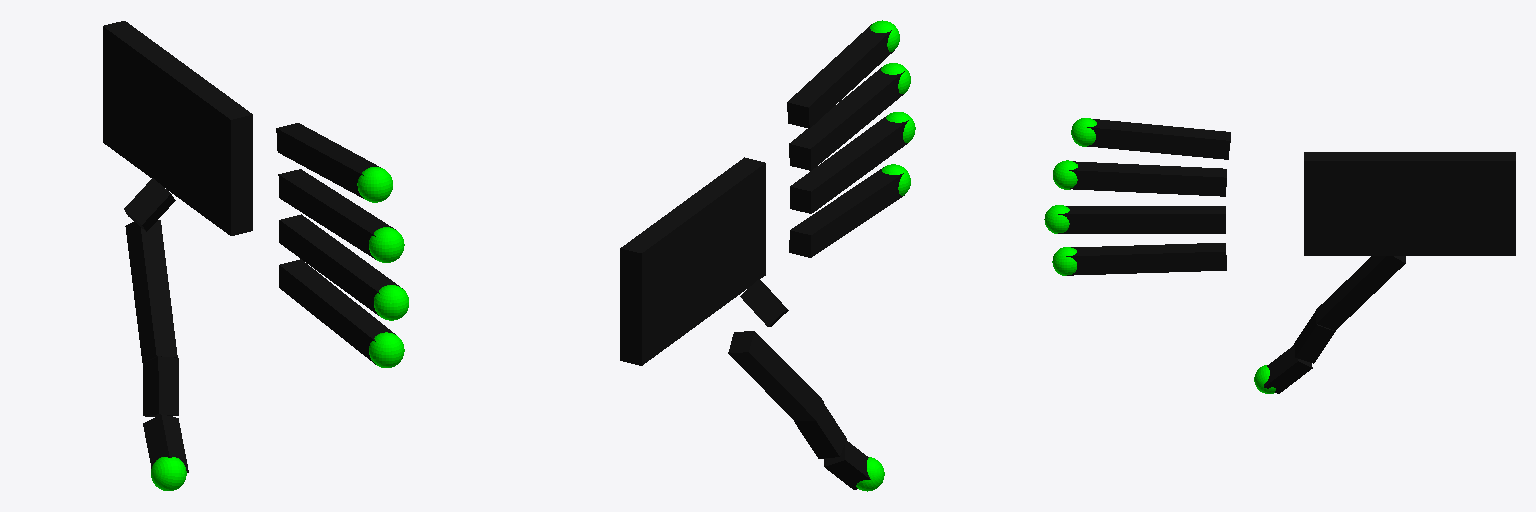
The robot description file, URDF, robot "h1_box":
<?xml version='1.0' encoding='utf-8'?>
<robot name="h1_box">

  <link name="R_hand_base_link">
    <inertial>
      <origin xyz="-0.0025264 -0.066047 0.0019598" rpy="0 0 0" />
      <mass value="0.14143" />
      <inertia ixx="0.00012281" ixy="2.1711E-06" ixz="1.7709E-06" iyy="8.3832E-05" iyz="-1.6551E-06" izz="7.6663E-05" />
    </inertial>
    <visual>
      <origin xyz="-0.0050 -0.0500 0.0000" rpy="0 0 0" />
      <geometry>
        <box size="0.01 0.1 0.05" /></geometry>
      <material name="">
        <color rgba="0.1 0.1 0.1 1" />
      </material>
    </visual>
    <collision>
      <origin xyz="-0.0050 -0.0500 0.0000" rpy="0 0 0" />
      <geometry>
        <box size="0.01 0.1 0.05" /></geometry>
    </collision>
  </link>

  <link name="R_thumb_proximal_base">
    <inertial>
      <origin xyz="-0.0048064 0.0009382 -0.00757" rpy="0 0 0" />
      <mass value="0.0018869" />
      <inertia ixx="5.816E-08" ixy="1.4539E-08" ixz="4.491E-09" iyy="7.9161E-08" iyz="-1.8727E-09" izz="6.7433E-08" />
    </inertial>
    <visual>
      <origin xyz="0.0001 0.0109 -0.0014" rpy="0.0000 0.5836 3.8217" />
      <geometry>
        <box size="0.01 0.016787272024066328 0.01" /></geometry>
      <material name="">
        <color rgba="0.1 0.1 0.1 1" />
      </material>
    </visual>
    <collision>
      <origin xyz="0.0001 0.0109 -0.0014" rpy="0.0000 0.5836 3.8217" />
      <geometry>
        <box size="0.01 0.016787272024066328 0.01" /></geometry>
    </collision>
  </link>

  <joint name="R_thumb_proximal_yaw_joint" type="revolute">
    <origin xyz="-0.01696 -0.0691 -0.02045" rpy="1.5708 -1.5708 0" />
    <parent link="R_hand_base_link" />
    <child link="R_thumb_proximal_base" />
    <axis xyz="0 0 -1" />
    <limit lower="-0.1" upper="1.3" effort="1" velocity="0.5" />
  </joint>

  <link name="R_thumb_proximal">
    <inertial>
      <origin xyz="0.021932 0.012785 -0.0080386" rpy="0 0 0" />
      <mass value="0.0066075" />
      <inertia ixx="1.5686E-06" ixy="-7.8296E-07" ixz="8.9143E-10" iyy="1.7353E-06" iyz="-1.0191E-09" izz="2.786E-06" />
    </inertial>
    <visual>
      <origin xyz="0.0252 0.0133 -0.0049" rpy="0.0000 0.0143 2.2357" />
      <geometry>
        <box size="0.01 0.056006380966814845 0.01" /></geometry>
      <material name="">
        <color rgba="0.1 0.1 0.1 1" />
      </material>
    </visual>
    <collision>
      <origin xyz="0.0252 0.0133 -0.0049" rpy="0.0000 0.0143 2.2357" />
      <geometry>
        <box size="0.01 0.056006380966814845 0.01" /></geometry>
    </collision>
  </link>

  <joint name="R_thumb_proximal_pitch_joint" type="revolute">
    <origin xyz="-0.0088099 0.010892 -0.00925" rpy="1.5708 0 2.8587" />
    <parent link="R_thumb_proximal_base" />
    <child link="R_thumb_proximal" />
    <axis xyz="0 0 1" />
    <limit lower="0.0" upper="0.5" effort="1" velocity="0.5" />
  </joint>

  <link name="R_thumb_intermediate">
    <inertial>
      <origin xyz="0.0095544 -0.0016282 -0.0071997" rpy="0 0 0" />
      <mass value="0.0037847" />
      <inertia ixx="3.6981E-07" ixy="-9.8581E-08" ixz="-4.7469E-12" iyy="3.2394E-07" iyz="1.0939E-12" izz="4.6531E-07" />
    </inertial>
    <visual>
      <origin xyz="0.0125 0.0004 -0.0047" rpy="0.0000 0.0529 2.0357" />
      <geometry>
        <box size="0.01 0.02268404373122217 0.01" /></geometry>
      <material name="">
        <color rgba="0.1 0.1 0.1 1" />
      </material>
    </visual>
    <collision>
      <origin xyz="0.0125 0.0004 -0.0047" rpy="0.0000 0.0529 2.0357" />
      <geometry>
        <box size="0.01 0.02268404373122217 0.01" /></geometry>
    </collision>
  </link>

  <joint name="R_thumb_intermediate_joint" type="revolute">
    <origin xyz="0.04407 0.034553 -0.0008" rpy="0 0 0" />
    <parent link="R_thumb_proximal" />
    <child link="R_thumb_intermediate" />
    <axis xyz="0 0 1" />
    <limit lower="0" upper="0.8" effort="1" velocity="0.5" />
    <mimic joint="R_thumb_proximal_pitch_joint" multiplier="1.6" offset="0" />
  </joint>

  <link name="R_thumb_distal">
    <inertial>
      <origin xyz="0.0092888 0.0049529 -0.0060033" rpy="0 0 0" />
      <mass value="0.0033441" />
      <inertia ixx="1.3632E-07" ixy="-5.6788E-08" ixz="-9.2764E-11" iyy="1.4052E-07" iyz="-1.2283E-10" izz="2.0026E-07" />
    </inertial>
    <visual>
      <origin xyz="0.0125 0.0037 -0.0035" rpy="0.0000 0.2626 2.3466" />
      <geometry>
        <box size="0.01 0.023078574950895474 0.01" /></geometry>
      <material name="">
        <color rgba="0.1 0.1 0.1 1" />
      </material>
    </visual>
    <collision>
      <origin xyz="0.0125 0.0037 -0.0035" rpy="0.0000 0.2626 2.3466" />
      <geometry>
        <box size="0.01 0.023078574950895474 0.01" /></geometry>
    </collision>
  </link>

  <joint name="R_thumb_distal_joint" type="revolute">
    <origin xyz="0.020248 0.010156 -0.0012" rpy="0 0 0" />
    <parent link="R_thumb_intermediate" />
    <child link="R_thumb_distal" />
    <axis xyz="0 0 1" />
    <limit lower="0" upper="1.2" effort="1" velocity="0.5" />
    <mimic joint="R_thumb_proximal_pitch_joint" multiplier="2.4" offset="0" />
  </joint>

  <link name="R_thumb_tip">
    <visual>
      <origin xyz="0 0 0" rpy="0 0 0" />
      <geometry>
        <sphere radius="0.006999999999999999" />
      </geometry>
      <material name="green">
        <color rgba="0 1 0 1" />
      </material>
    </visual>
  </link>
  <joint name="R_thumb_tip_joint" type="fixed">
    <parent link="R_thumb_distal" />
    <child link="R_thumb_tip" />
    <origin rpy="0 0 0" xyz="0.020 0.012 -0.0020" />
  </joint>

  <link name="R_index_proximal">
    <inertial>
      <origin xyz="0.0012259 0.011942 -0.0060001" rpy="0 0 0" />
      <mass value="0.0042403" />
      <inertia ixx="6.6232E-07" ixy="-1.5775E-08" ixz="1.8515E-12" iyy="2.1146E-07" iyz="-5.0828E-12" izz="6.9398E-07" />
    </inertial>
    <visual>
      <origin xyz="-0.0050 0.0161 -0.0050" rpy="0 0 0" />
      <geometry>
        <box size="0.01 0.03214804234226402 0.01" /></geometry>
      <material name="">
        <color rgba="0.1 0.1 0.1 1" />
      </material>
    </visual>
    <collision>
      <origin xyz="-0.0050 0.0161 -0.0050" rpy="0 0 0" />
      <geometry>
        <box size="0.01 0.03214804234226402 0.01" /></geometry>
    </collision>
  </link>

  <joint name="R_index_proximal_joint" type="revolute">
    <origin xyz="0.00028533 -0.13653 -0.032268" rpy="-3.1067 0 0" />
    <parent link="R_hand_base_link" />
    <child link="R_index_proximal" />
    <axis xyz="0 0 1" />
    <limit lower="0" upper="1.7" effort="1" velocity="0.5" />
  </joint>

  <link name="R_index_intermediate">
    <inertial>
      <origin xyz="0.0019697 0.019589 -0.005" rpy="0 0 0" />
      <mass value="0.0045683" />
      <inertia ixx="7.6111E-07" ixy="8.7637E-08" ixz="-3.7751E-13" iyy="9.6076E-08" iyz="9.9444E-13" izz="7.8179E-07" />
    </inertial>
    <visual>
      <origin xyz="-0.0050 0.0219 -0.0050" rpy="0 0 0" />
      <geometry>
        <box size="0.01 0.04379631116135011 0.01" /></geometry>
      <material name="">
        <color rgba="0.1 0.1 0.1 1" />
      </material>
    </visual>
    <collision>
      <origin xyz="-0.0050 0.0219 -0.0050" rpy="0 0 0" />
      <geometry>
        <box size="0.01 0.04379631116135011 0.01" /></geometry>
    </collision>
  </link>

  <joint name="R_index_intermediate_joint" type="revolute">
    <origin xyz="0 0.032026 0" rpy="0 0 0" />
    <parent link="R_index_proximal" />
    <child link="R_index_intermediate" />
    <axis xyz="0 0 1" />
    <limit lower="0" upper="1.7" effort="1" velocity="0.5" />
    <mimic joint="R_index_proximal_joint" multiplier="1" offset="0" />
  </joint>

  <link name="R_index_tip">
    <visual>
      <origin xyz="0 0 0" rpy="0 0 0" />
      <geometry>
        <sphere radius="0.006999999999999999" />
      </geometry>
      <material name="green">
        <color rgba="0 1 0 1" />
      </material>
    </visual>
  </link>
  <joint name="R_index_tip_joint" type="fixed">
    <parent link="R_index_intermediate" />
    <child link="R_index_tip" />
    <origin rpy="0 0 0" xyz="-0.005 0.0433132 -0.005" />
  </joint>

  <link name="R_middle_proximal">
    <inertial>
      <origin xyz="0.001297 0.011934 -0.0060001" rpy="0 0 0" />
      <mass value="0.0042403" />
      <inertia ixx="6.6211E-07" ixy="-1.8461E-08" ixz="1.8002E-12" iyy="2.1167E-07" iyz="-6.6808E-12" izz="6.9397E-07" />
    </inertial>
    <visual>
      <origin xyz="-0.0050 0.0161 -0.0050" rpy="0 0 0" />
      <geometry>
        <box size="0.01 0.03214803454972014 0.01" /></geometry>
      <material name="">
        <color rgba="0.1 0.1 0.1 1" />
      </material>
    </visual>
    <collision>
      <origin xyz="-0.0050 0.0161 -0.0050" rpy="0 0 0" />
      <geometry>
        <box size="0.01 0.03214803454972014 0.01" /></geometry>
    </collision>
  </link>

  <joint name="R_middle_proximal_joint" type="revolute">
    <origin xyz="0.00028533 -0.1371 -0.01295" rpy="-3.1416 0 0" />
    <parent link="R_hand_base_link" />
    <child link="R_middle_proximal" />
    <axis xyz="0 0 1" />
    <limit lower="0" upper="1.7" effort="1" velocity="0.5" />
  </joint>

  <link name="R_middle_intermediate">
    <inertial>
      <origin xyz="0.001921 0.020796 -0.005" rpy="0 0 0" />
      <mass value="0.0050396" />
      <inertia ixx="9.5822E-07" ixy="1.1425E-07" ixz="-2.4791E-12" iyy="1.0646E-07" iyz="5.9173E-12" izz="9.8384E-07" />
    </inertial>
    <visual>
      <origin xyz="-0.0050 0.0235 -0.0050" rpy="0 0 0" />
      <geometry>
        <box size="0.01 0.04706433173139187 0.01" /></geometry>
      <material name="">
        <color rgba="0.1 0.1 0.1 1" />
      </material>
    </visual>
    <collision>
      <origin xyz="-0.0050 0.0235 -0.0050" rpy="0 0 0" />
      <geometry>
        <box size="0.01 0.04706433173139187 0.01" /></geometry>
    </collision>
  </link>

  <joint name="R_middle_intermediate_joint" type="revolute">
    <origin xyz="0 0.032041 0" rpy="0 0 0" />
    <parent link="R_middle_proximal" />
    <child link="R_middle_intermediate" />
    <axis xyz="0 0 1" />
    <limit lower="0" upper="1.7" effort="1" velocity="0.5" />
    <mimic joint="R_middle_proximal_joint" multiplier="1" offset="0" />
  </joint>

  <link name="R_middle_tip">
    <visual>
      <origin xyz="0 0 0" rpy="0 0 0" />
      <geometry>
        <sphere radius="0.006999999999999999" />
      </geometry>
      <material name="green">
        <color rgba="0 1 0 1" />
      </material>
    </visual>
  </link>
  <joint name="R_middle_tip_joint" type="fixed">
    <parent link="R_middle_intermediate" />
    <child link="R_middle_tip" />
    <origin rpy="0 0 0" xyz="-0.005 0.0466043 -0.005" />
  </joint>

  <link name="R_ring_proximal">
    <inertial>
      <origin xyz="0.001297 0.011934 -0.0060002" rpy="0 0 0" />
      <mass value="0.0042403" />
      <inertia ixx="6.6211E-07" ixy="-1.8461E-08" ixz="1.5793E-12" iyy="2.1167E-07" iyz="-6.6868E-12" izz="6.9397E-07" />
    </inertial>
    <visual>
      <origin xyz="-0.0050 0.0161 -0.0050" rpy="0 0 0" />
      <geometry>
        <box size="0.01 0.03214803454972014 0.01" /></geometry>
      <material name="">
        <color rgba="0.1 0.1 0.1 1" />
      </material>
    </visual>
    <collision>
      <origin xyz="-0.0050 0.0161 -0.0050" rpy="0 0 0" />
      <geometry>
        <box size="0.01 0.03214803454972014 0.01" /></geometry>
    </collision>
  </link>

  <joint name="R_ring_proximal_joint" type="revolute">
    <origin xyz="0.00028533 -0.13691 0.0062872" rpy="3.0892 0 0" />
    <parent link="R_hand_base_link" />
    <child link="R_ring_proximal" />
    <axis xyz="0 0 1" />
    <limit lower="0" upper="1.7" effort="1" velocity="0.5" />
  </joint>

  <link name="R_ring_intermediate">
    <inertial>
      <origin xyz="0.0021753 0.019567 -0.005" rpy="0 0 0" />
      <mass value="0.0045683" />
      <inertia ixx="7.6286E-07" ixy="8.0635E-08" ixz="-6.1562E-13" iyy="9.431E-08" iyz="5.8619E-13" izz="7.8177E-07" />
    </inertial>
    <visual>
      <origin xyz="-0.0050 0.0219 -0.0050" rpy="0 0 0" />
      <geometry>
        <box size="0.01 0.04379633523392682 0.01" /></geometry>
      <material name="">
        <color rgba="0.1 0.1 0.1 1" />
      </material>
    </visual>
    <collision>
      <origin xyz="-0.0050 0.0219 -0.0050" rpy="0 0 0" />
      <geometry>
        <box size="0.01 0.04379633523392682 0.01" /></geometry>
    </collision>
  </link>

  <joint name="R_ring_intermediate_joint" type="revolute">
    <origin xyz="0 0.032041 0" rpy="0 0 0" />
    <parent link="R_ring_proximal" />
    <child link="R_ring_intermediate" />
    <axis xyz="0 0 1" />
    <limit lower="0" upper="1.7" effort="1" velocity="0.5" />
    <mimic joint="R_ring_proximal_joint" multiplier="1" offset="0" />
  </joint>

  <link name="R_ring_tip">
    <visual>
      <origin xyz="0 0 0" rpy="0 0 0" />
      <geometry>
        <sphere radius="0.006999999999999999" />
      </geometry>
      <material name="green">
        <color rgba="0 1 0 1" />
      </material>
    </visual>
  </link>
  <joint name="R_ring_tip_joint" type="fixed">
    <parent link="R_ring_intermediate" />
    <child link="R_ring_tip" />
    <origin rpy="0 0 0" xyz="-0.005 0.0433541 -0.005" />
  </joint>

  <link name="R_pinky_proximal">
    <inertial>
      <origin xyz="0.001297 0.011934 -0.0060001" rpy="0 0 0" />
      <mass value="0.0042403" />
      <inertia ixx="6.6211E-07" ixy="-1.8461E-08" ixz="1.6907E-12" iyy="2.1167E-07" iyz="-6.9334E-12" izz="6.9397E-07" />
    </inertial>
    <visual>
      <origin xyz="-0.0050 0.0161 -0.0050" rpy="0 0 0" />
      <geometry>
        <box size="0.01 0.03214803454972014 0.01" /></geometry>
      <material name="">
        <color rgba="0.1 0.1 0.1 1" />
      </material>
    </visual>
    <collision>
      <origin xyz="-0.0050 0.0161 -0.0050" rpy="0 0 0" />
      <geometry>
        <box size="0.01 0.03214803454972014 0.01" /></geometry>
    </collision>
  </link>

  <joint name="R_pinky_proximal_joint" type="revolute">
    <origin xyz="0.00028533 -0.13571 0.025488" rpy="3.0369 0 0" />
    <parent link="R_hand_base_link" />
    <child link="R_pinky_proximal" />
    <axis xyz="0 0 1" />
    <limit lower="0" upper="1.7" effort="1" velocity="0.5" />
  </joint>

  <link name="R_pinky_intermediate">
    <inertial>
      <origin xyz="0.0024748 0.016203 -0.0050031" rpy="0 0 0" />
      <mass value="0.0035996" />
      <inertia ixx="4.3913E-07" ixy="4.1418E-08" ixz="3.7168E-11" iyy="7.0247E-08" iyz="5.8613E-11" izz="4.4867E-07" />
    </inertial>
    <visual>
      <origin xyz="-0.0050 0.0184 -0.0050" rpy="0 0 0" />
      <geometry>
        <box size="0.01 0.03671467408620836 0.01" /></geometry>
      <material name="">
        <color rgba="0.1 0.1 0.1 1" />
      </material>
    </visual>
    <collision>
      <origin xyz="-0.0050 0.0184 -0.0050" rpy="0 0 0" />
      <geometry>
        <box size="0.01 0.03671467408620836 0.01" /></geometry>
    </collision>
  </link>

  <joint name="R_pinky_intermediate_joint" type="revolute">
    <origin xyz="0 0.032041 0" rpy="0 0 0" />
    <parent link="R_pinky_proximal" />
    <child link="R_pinky_intermediate" />
    <axis xyz="0 0 1" />
    <limit lower="0" upper="1.7" effort="1" velocity="0.5" />
    <mimic joint="R_pinky_proximal_joint" multiplier="1" offset="0" />
  </joint>

  <link name="R_pinky_tip">
    <visual>
      <origin xyz="0 0 0" rpy="0 0 0" />
      <geometry>
        <sphere radius="0.006999999999999999" />
      </geometry>
      <material name="green">
        <color rgba="0 1 0 1" />
      </material>
    </visual>
  </link>
  <joint name="R_pinky_tip_joint" type="fixed">
    <parent link="R_pinky_intermediate" />
    <child link="R_pinky_tip" />
    <origin rpy="0 0 0" xyz="-0.005 0.0362776 -0.005" />
  </joint>
</robot>

--- Facts derived from the render (not from the file) ---
Views: 3 orthographic renders of the robot side by side, from view 1: azimuth 30°, elevation 25°; view 2: azimuth 150°, elevation 25°; view 3: azimuth 270°, elevation 25°.
Robot: h1_box — 18 links, 17 joints (12 revolute, 5 fixed); root link R_hand_base_link; default pose: all joints at 0.
Links seen in each view (by area): view 1: R_hand_base_link, R_thumb_proximal, R_middle_intermediate, R_index_intermediate, R_ring_intermediate, R_thumb_intermediate, R_index_proximal, R_middle_proximal, R_ring_proximal, R_pinky_proximal, R_pinky_intermediate, R_thumb_distal (+6 smaller); view 2: R_hand_base_link, R_thumb_proximal, R_pinky_proximal, R_middle_intermediate, R_ring_proximal, R_ring_intermediate, R_middle_proximal, R_index_proximal, R_index_intermediate, R_pinky_intermediate, R_thumb_intermediate, R_thumb_distal (+2 smaller); view 3: R_hand_base_link, R_thumb_proximal, R_middle_intermediate, R_index_intermediate, R_ring_intermediate, R_pinky_intermediate, R_index_proximal, R_pinky_proximal, R_ring_proximal, R_middle_proximal, R_thumb_distal, R_thumb_intermediate (+4 smaller).
Link boxes in pixels (bbox=[...]): R_hand_base_link: bbox=[103, 21, 252, 235]; R_thumb_proximal: bbox=[125, 220, 177, 362]; R_middle_intermediate: bbox=[320, 245, 402, 315]; R_index_intermediate: bbox=[320, 292, 395, 364]; R_ring_intermediate: bbox=[320, 195, 395, 259]; R_thumb_intermediate: bbox=[143, 356, 178, 416]; R_index_proximal: bbox=[279, 259, 341, 319]; R_middle_proximal: bbox=[279, 214, 342, 272]; R_ring_proximal: bbox=[278, 169, 340, 223]; R_pinky_proximal: bbox=[276, 123, 338, 173]; R_pinky_intermediate: bbox=[317, 145, 380, 198]; R_thumb_distal: bbox=[143, 414, 188, 472]; R_hand_base_link: bbox=[620, 157, 765, 365]; R_thumb_proximal: bbox=[728, 331, 823, 421]; R_pinky_proximal: bbox=[787, 66, 848, 128]; R_middle_intermediate: bbox=[831, 116, 908, 184]; R_ring_proximal: bbox=[789, 111, 850, 170]; R_ring_intermediate: bbox=[830, 67, 904, 137]; R_middle_proximal: bbox=[790, 157, 850, 213]; R_index_proximal: bbox=[789, 204, 850, 257]; R_index_intermediate: bbox=[830, 167, 904, 231]; R_pinky_intermediate: bbox=[827, 24, 894, 91]; R_thumb_intermediate: bbox=[794, 403, 846, 458]; R_thumb_distal: bbox=[824, 440, 870, 489]; R_hand_base_link: bbox=[1304, 152, 1515, 255]; R_thumb_proximal: bbox=[1316, 256, 1405, 330]; R_middle_intermediate: bbox=[1058, 206, 1157, 233]; R_index_intermediate: bbox=[1066, 245, 1158, 275]; R_ring_intermediate: bbox=[1069, 161, 1158, 193]; R_pinky_intermediate: bbox=[1087, 119, 1162, 152]; R_index_proximal: bbox=[1158, 243, 1226, 272]; R_pinky_proximal: bbox=[1161, 126, 1230, 159]; R_ring_proximal: bbox=[1158, 165, 1226, 196]; R_middle_proximal: bbox=[1158, 206, 1225, 233]; R_thumb_distal: bbox=[1264, 345, 1312, 393]; R_thumb_intermediate: bbox=[1294, 311, 1335, 363].
Bounding box of the posed robot: 0.0568 × 0.2227 × 0.1629 m (x, y, z).
Geometry: primitives only (box / cylinder / sphere), no mesh files.